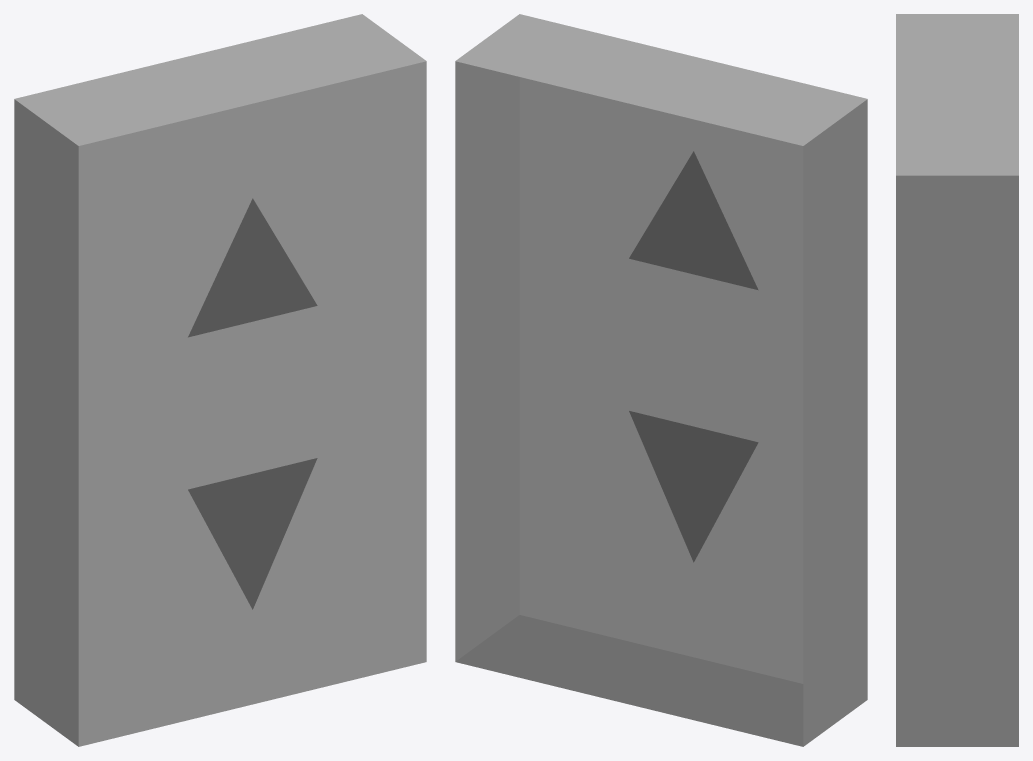
File: ElevatorButton.glb
The picture shows the model from 3 angles, left to right: view 1: azimuth 30°, elevation 25°; view 2: azimuth 150°, elevation 25°; view 3: azimuth 270°, elevation 25°; orthographic projection. The views are drawn at different scales.
Visible parts, largest first — view 1: SO_Elevator_Button; view 2: SO_Elevator_Button; view 3: SO_Elevator_Button.
Boxes of the visible parts, left/top/right/bottom form: SO_Elevator_Button: left=14, top=14, right=426, bottom=746; SO_Elevator_Button: left=455, top=14, right=867, bottom=746; SO_Elevator_Button: left=896, top=14, right=1018, bottom=746.
Size of the model in its own units: 0.00472 by 0.00778 by 0.00151.
Materials: 1 (1 with a texture image).
